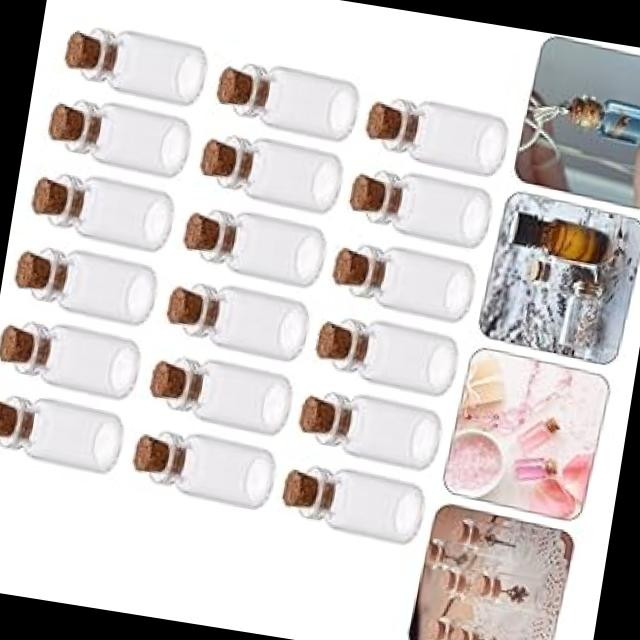glass: (360, 63, 522, 179), (46, 5, 215, 111), (38, 90, 204, 180), (182, 200, 344, 292), (0, 309, 152, 406), (0, 383, 144, 484), (6, 236, 168, 322), (205, 54, 367, 140), (276, 455, 434, 543), (292, 382, 445, 472), (21, 168, 177, 254), (196, 124, 347, 212), (335, 229, 478, 321), (126, 424, 284, 504), (153, 354, 297, 441), (345, 162, 488, 242), (162, 290, 312, 364), (316, 312, 451, 394), (500, 196, 628, 263), (556, 72, 640, 152)
